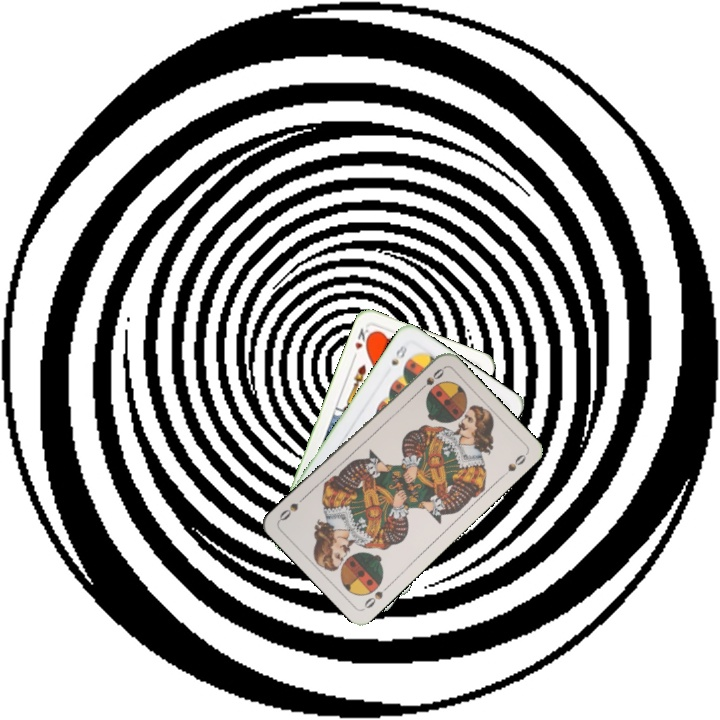HK: (348, 324, 374, 362)
S8: (387, 341, 410, 368)
SO: (414, 364, 447, 395), (360, 580, 393, 611)
